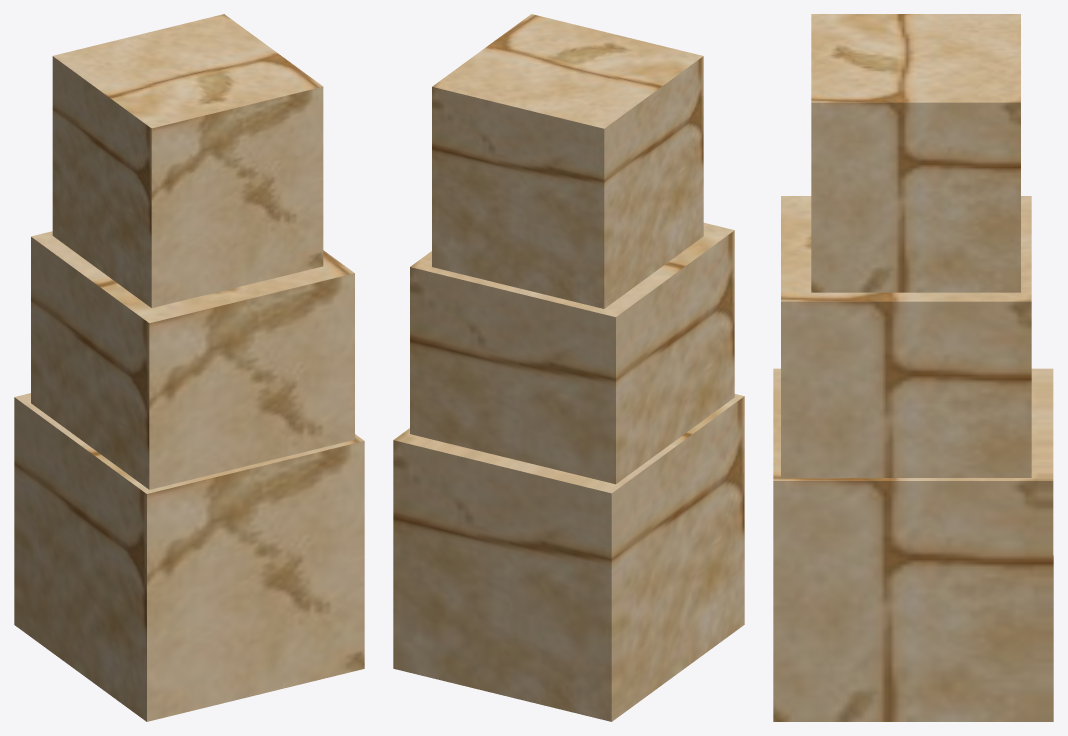
File: BaseBAse.fbx
3 views of the same model, side by side, from view 1: azimuth 30°, elevation 25°; view 2: azimuth 150°, elevation 25°; view 3: azimuth 270°, elevation 25° (orthographic). The views are drawn at different scales.
Visible parts, largest first — view 1: BaseHouse, Cube.060, Cube.012; view 2: BaseHouse, Cube.060, Cube.012; view 3: BaseHouse, Cube.060, Cube.012.
Part boxes in pixels (x1,y1,x2,y2): BaseHouse: (14,393,364,721); Cube.060: (52,14,323,307); Cube.012: (31,231,354,489); BaseHouse: (393,394,744,721); Cube.060: (432,14,703,308); Cube.012: (410,222,734,484); BaseHouse: (773,368,1053,721); Cube.060: (811,14,1020,292); Cube.012: (781,196,1031,477).
Bounding box in the file's own units: 257 × 647 × 271.
